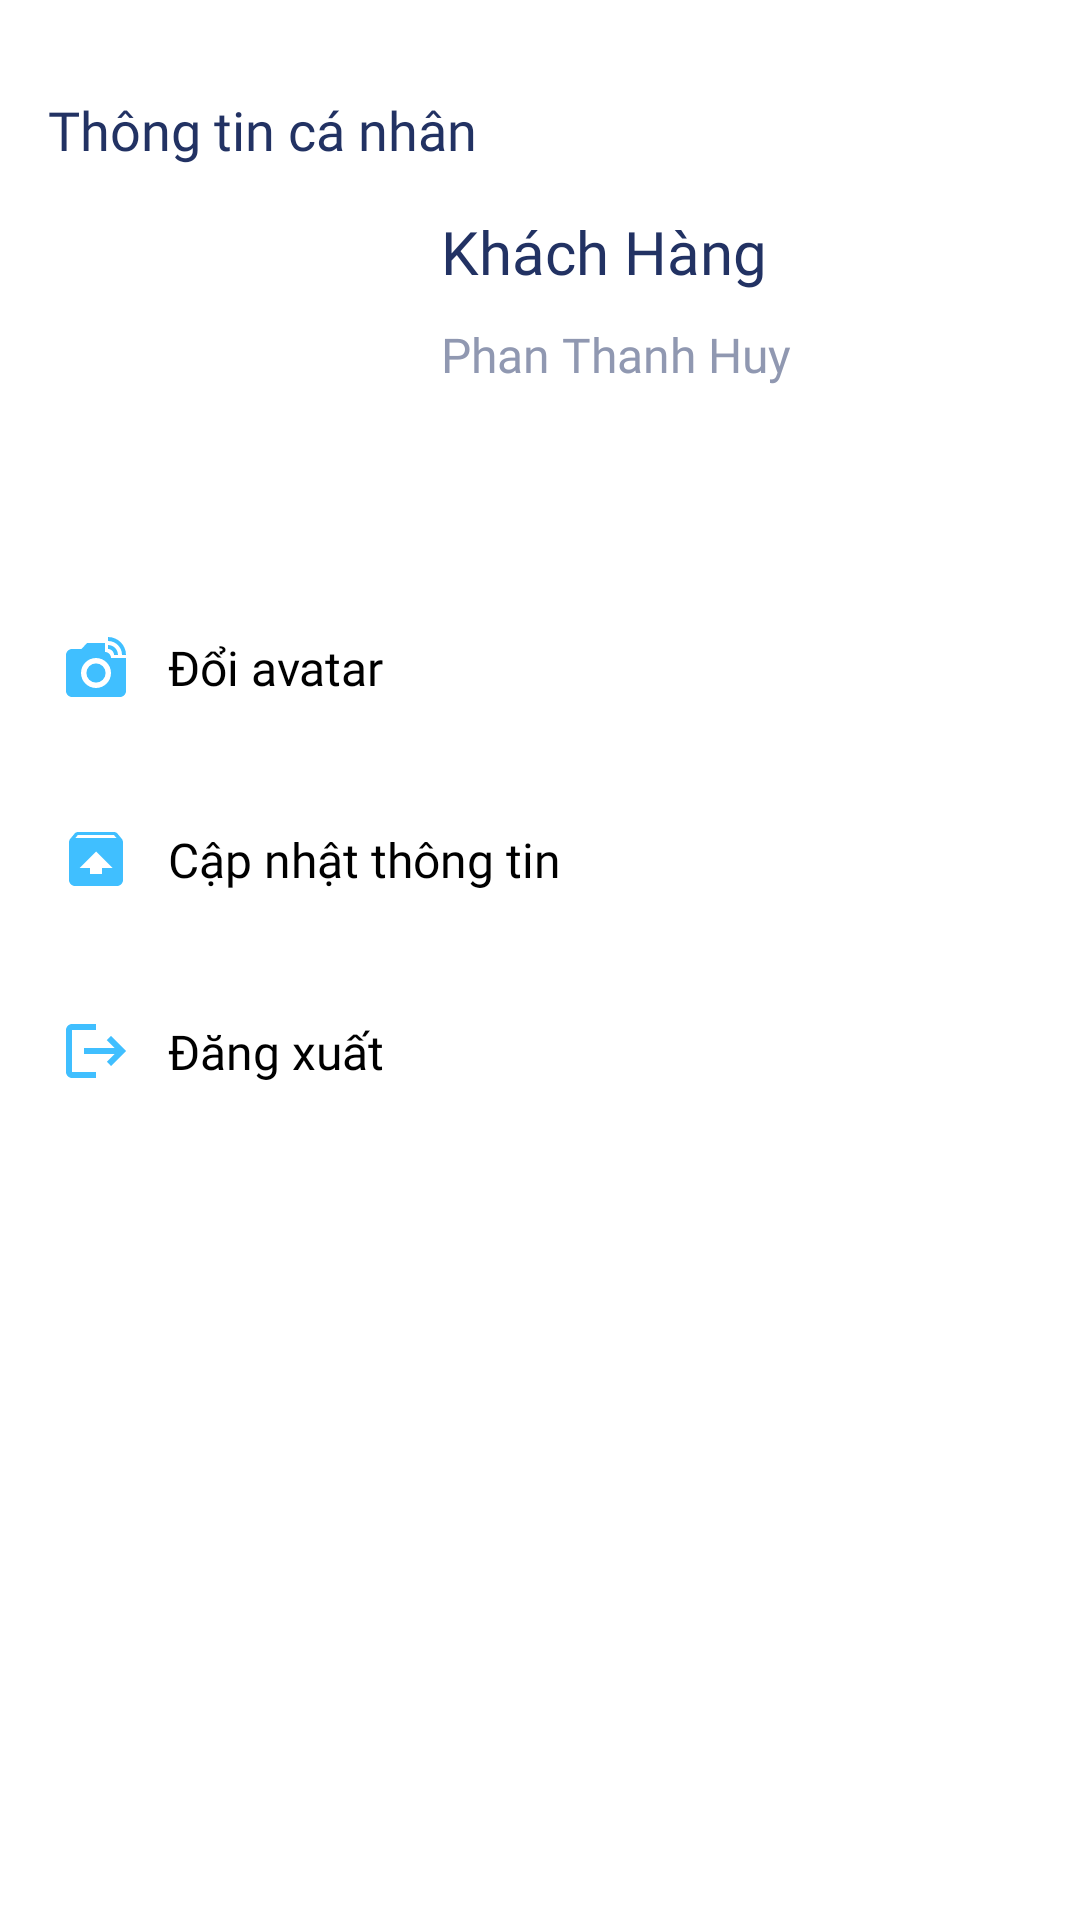

Where icons sit on this 1080x1920 app screen, as (left=x1, top=y1, right=x2, bottom=y2):
linked camera: (left=66, top=637, right=126, bottom=697)
unarchive: (left=69, top=832, right=123, bottom=886)
